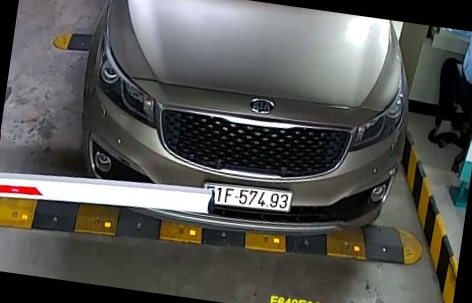plate: (189, 173, 297, 218)
